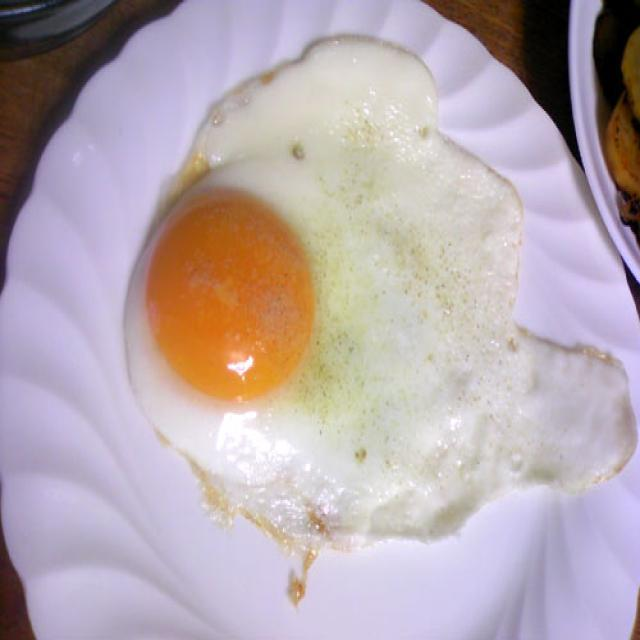Egg: (118, 34, 638, 553)
